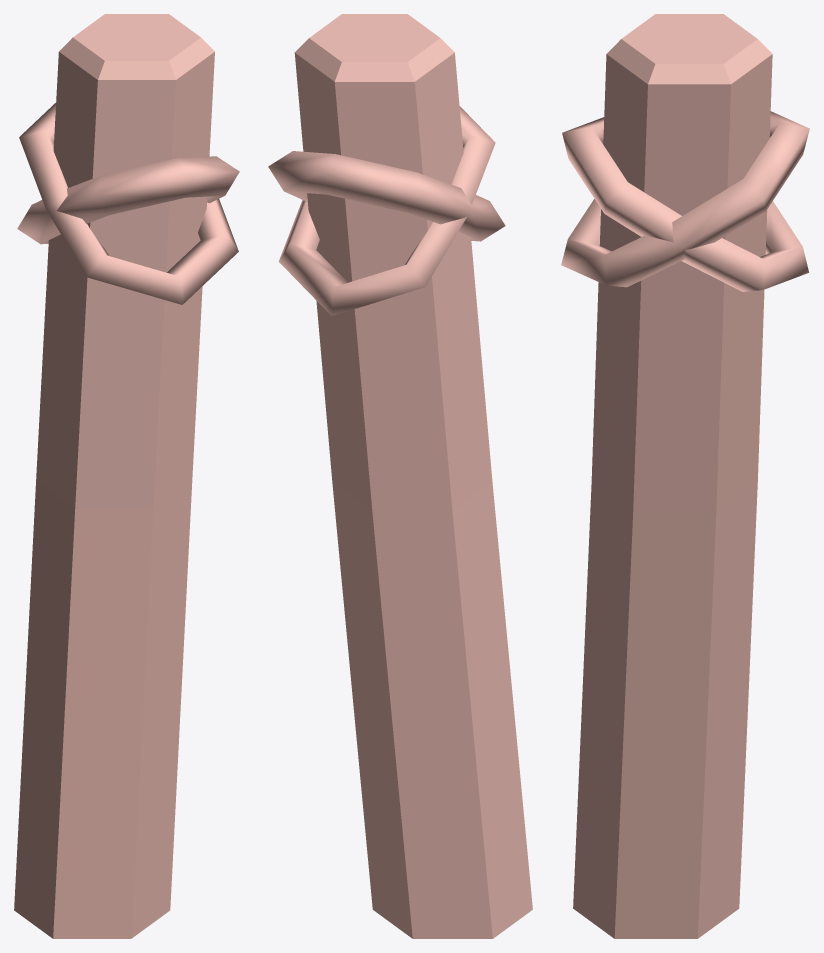
The model's file is Mega_Asset_s_Pack_Cylinder_033.FBX.
3 views of the same model, side by side, from view 1: azimuth 30°, elevation 25°; view 2: azimuth 150°, elevation 25°; view 3: azimuth 270°, elevation 25° (orthographic). The views are drawn at different scales.
Visible parts, largest first — view 1: Mega_Asset_s_Pack_Cylinder_033; view 2: Mega_Asset_s_Pack_Cylinder_033; view 3: Mega_Asset_s_Pack_Cylinder_033.
Part boxes in pixels (x1,y1,x2,y2): Mega_Asset_s_Pack_Cylinder_033: (14, 14, 239, 938); Mega_Asset_s_Pack_Cylinder_033: (268, 14, 532, 938); Mega_Asset_s_Pack_Cylinder_033: (561, 14, 809, 938).
Size of what is drawn, in the model's own units: 32.93 by 34.69 by 139.
